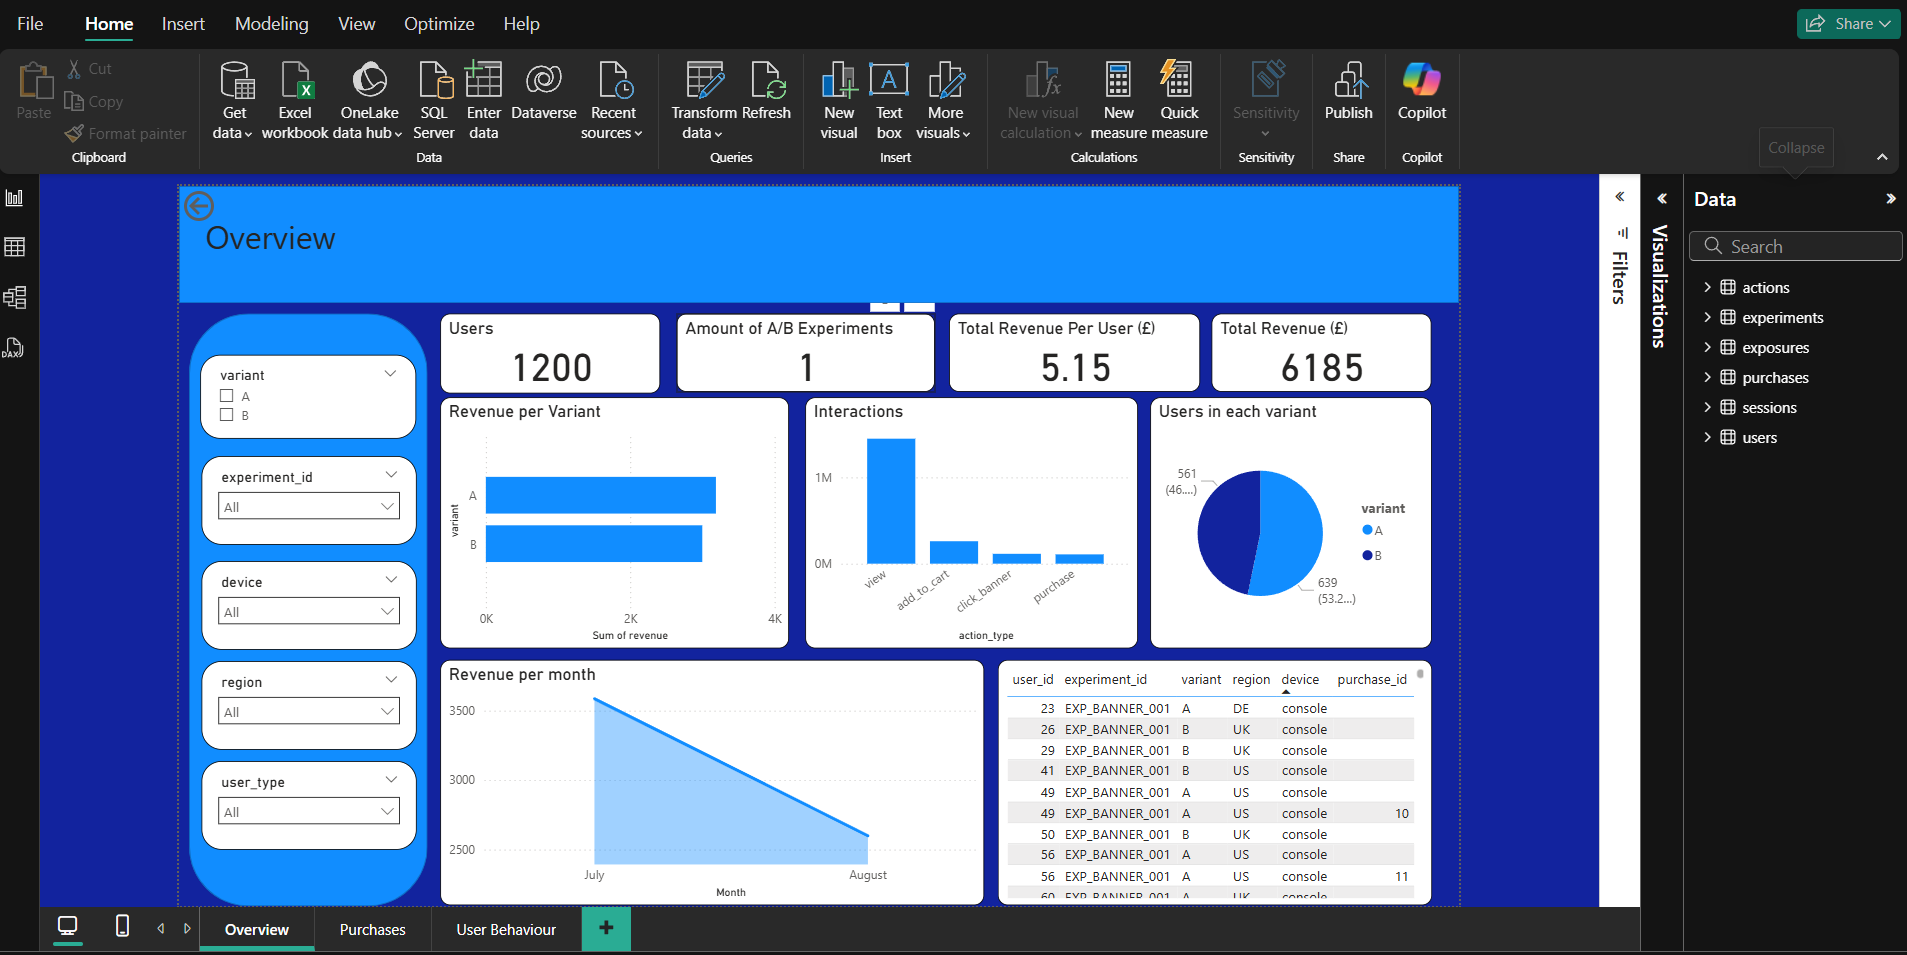

Layout of this report page (visuals, bound fields, positions):
{"tool":"powerbi","page":{"name":"Overview","canvas":[1280,720],"ordinal":0},"visuals":[{"type":"areaChart","title":"Revenue per month","fields":{"Category":["purchases.purchase_ts.Variation.Date Hierarchy.Month","purchases.purchase_ts.Variation.Date Hierarchy.Day"],"Y":["Sum(purchases.revenue)"]},"box":[261.4,474.3,544.3,245.7],"z":0},{"type":"card","title":"Total Revenue (£)","fields":{"Values":["actions.Total Revenue"]},"box":[1032.9,127.1,220,78.6],"z":1000},{"type":"card","title":"Users","fields":{"Values":["Count(users.user_id)"]},"box":[261.4,127.1,220,80],"z":2000},{"type":"tableEx","fields":{"Values":["users.user_id","exposures.experiment_id","exposures.variant","users.region","users.device","purchases.purchase_id"]},"box":[818.6,474.3,434.3,245.7],"z":3000},{"type":"card","title":"Total Revenue Per User (£)","fields":{"Values":["actions.Revenue per User"]},"box":[770,127.1,251.4,78.6],"z":4000},{"type":"card","title":"Amount of A/B Experiments","fields":{"Values":["Count(exposures.experiment_id)"]},"box":[497.1,127.1,258.6,78.6],"z":5000},{"type":"pieChart","title":"Users in each variant","fields":{"Category":["exposures.variant"],"Y":["CountNonNull(exposures.user_id)"]},"box":[971.4,211.4,281.4,251.4],"z":6000},{"type":"clusteredBarChart","title":"Revenue per Variant","fields":{"Category":["exposures.variant"],"Y":["Sum(purchases.revenue)"]},"box":[261.4,211.4,348.6,251.4],"z":7000},{"type":"columnChart","title":"Interactions","fields":{"Category":["actions.action_type"],"Y":["Sum(actions.sessions.user_id)"]},"box":[625.7,211.4,332.9,251.4],"z":8000},{"type":"shape","box":[10,127.1,238.6,592.9],"z":9000},{"type":"slicer","fields":{"Values":["exposures.variant"]},"box":[21.4,168.6,215.7,84.3],"z":10000},{"type":"slicer","fields":{"Values":["exposures.experiment_id"]},"box":[22,270.3,215.4,89.2],"z":11000},{"type":"slicer","fields":{"Values":["users.device"]},"box":[22,374.6,215.4,89.2],"z":12000},{"type":"slicer","fields":{"Values":["users.region"]},"box":[22,474.8,215.4,89.2],"z":13000},{"type":"slicer","fields":{"Values":["users.user_type"]},"box":[22,575,215.4,89.2],"z":14000},{"type":"shape","box":[0,0,1280,117.1],"z":15000},{"type":"textbox","box":[21.4,24.3,560,92.9],"z":16000},{"type":"actionButton","box":[0,0,100,40],"z":17000}]}

Visuals, with their boxes on the page's 1280x720 design canvas (x1, y1, x2, y2). These are canvas units, not pixel positions in the 1907x955 screenshot, which may show the page scaled, cropped or inside an application window:
"Revenue per month" areaChart: bbox=[261, 474, 806, 720]
"Total Revenue (£)" card: bbox=[1033, 127, 1253, 206]
"Users" card: bbox=[261, 127, 481, 207]
tableEx - users.user_id x exposures.experiment_id: bbox=[819, 474, 1253, 720]
"Total Revenue Per User (£)" card: bbox=[770, 127, 1021, 206]
"Amount of A/B Experiments" card: bbox=[497, 127, 756, 206]
"Users in each variant" pieChart: bbox=[971, 211, 1253, 463]
"Revenue per Variant" clusteredBarChart: bbox=[261, 211, 610, 463]
"Interactions" columnChart: bbox=[626, 211, 959, 463]
shape: bbox=[10, 127, 249, 720]
slicer - exposures.variant: bbox=[21, 169, 237, 253]
slicer - exposures.experiment_id: bbox=[22, 270, 237, 360]
slicer - users.device: bbox=[22, 375, 237, 464]
slicer - users.region: bbox=[22, 475, 237, 564]
slicer - users.user_type: bbox=[22, 575, 237, 664]
shape: bbox=[0, 0, 1280, 117]
textbox: bbox=[21, 24, 581, 117]
actionButton: bbox=[0, 0, 100, 40]
